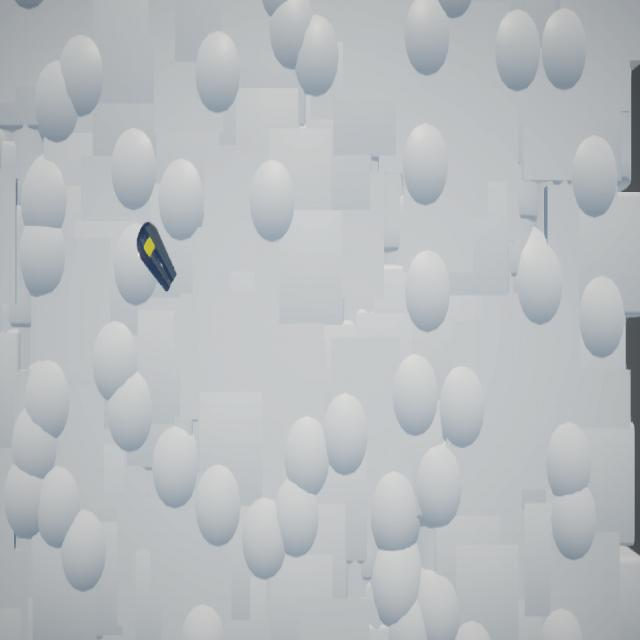handle_folk: (138, 222, 178, 294)
